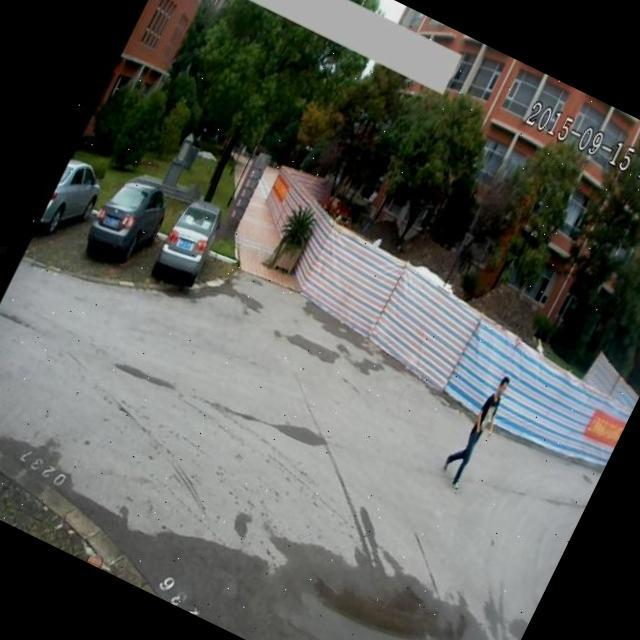person: (432, 366, 518, 499)
